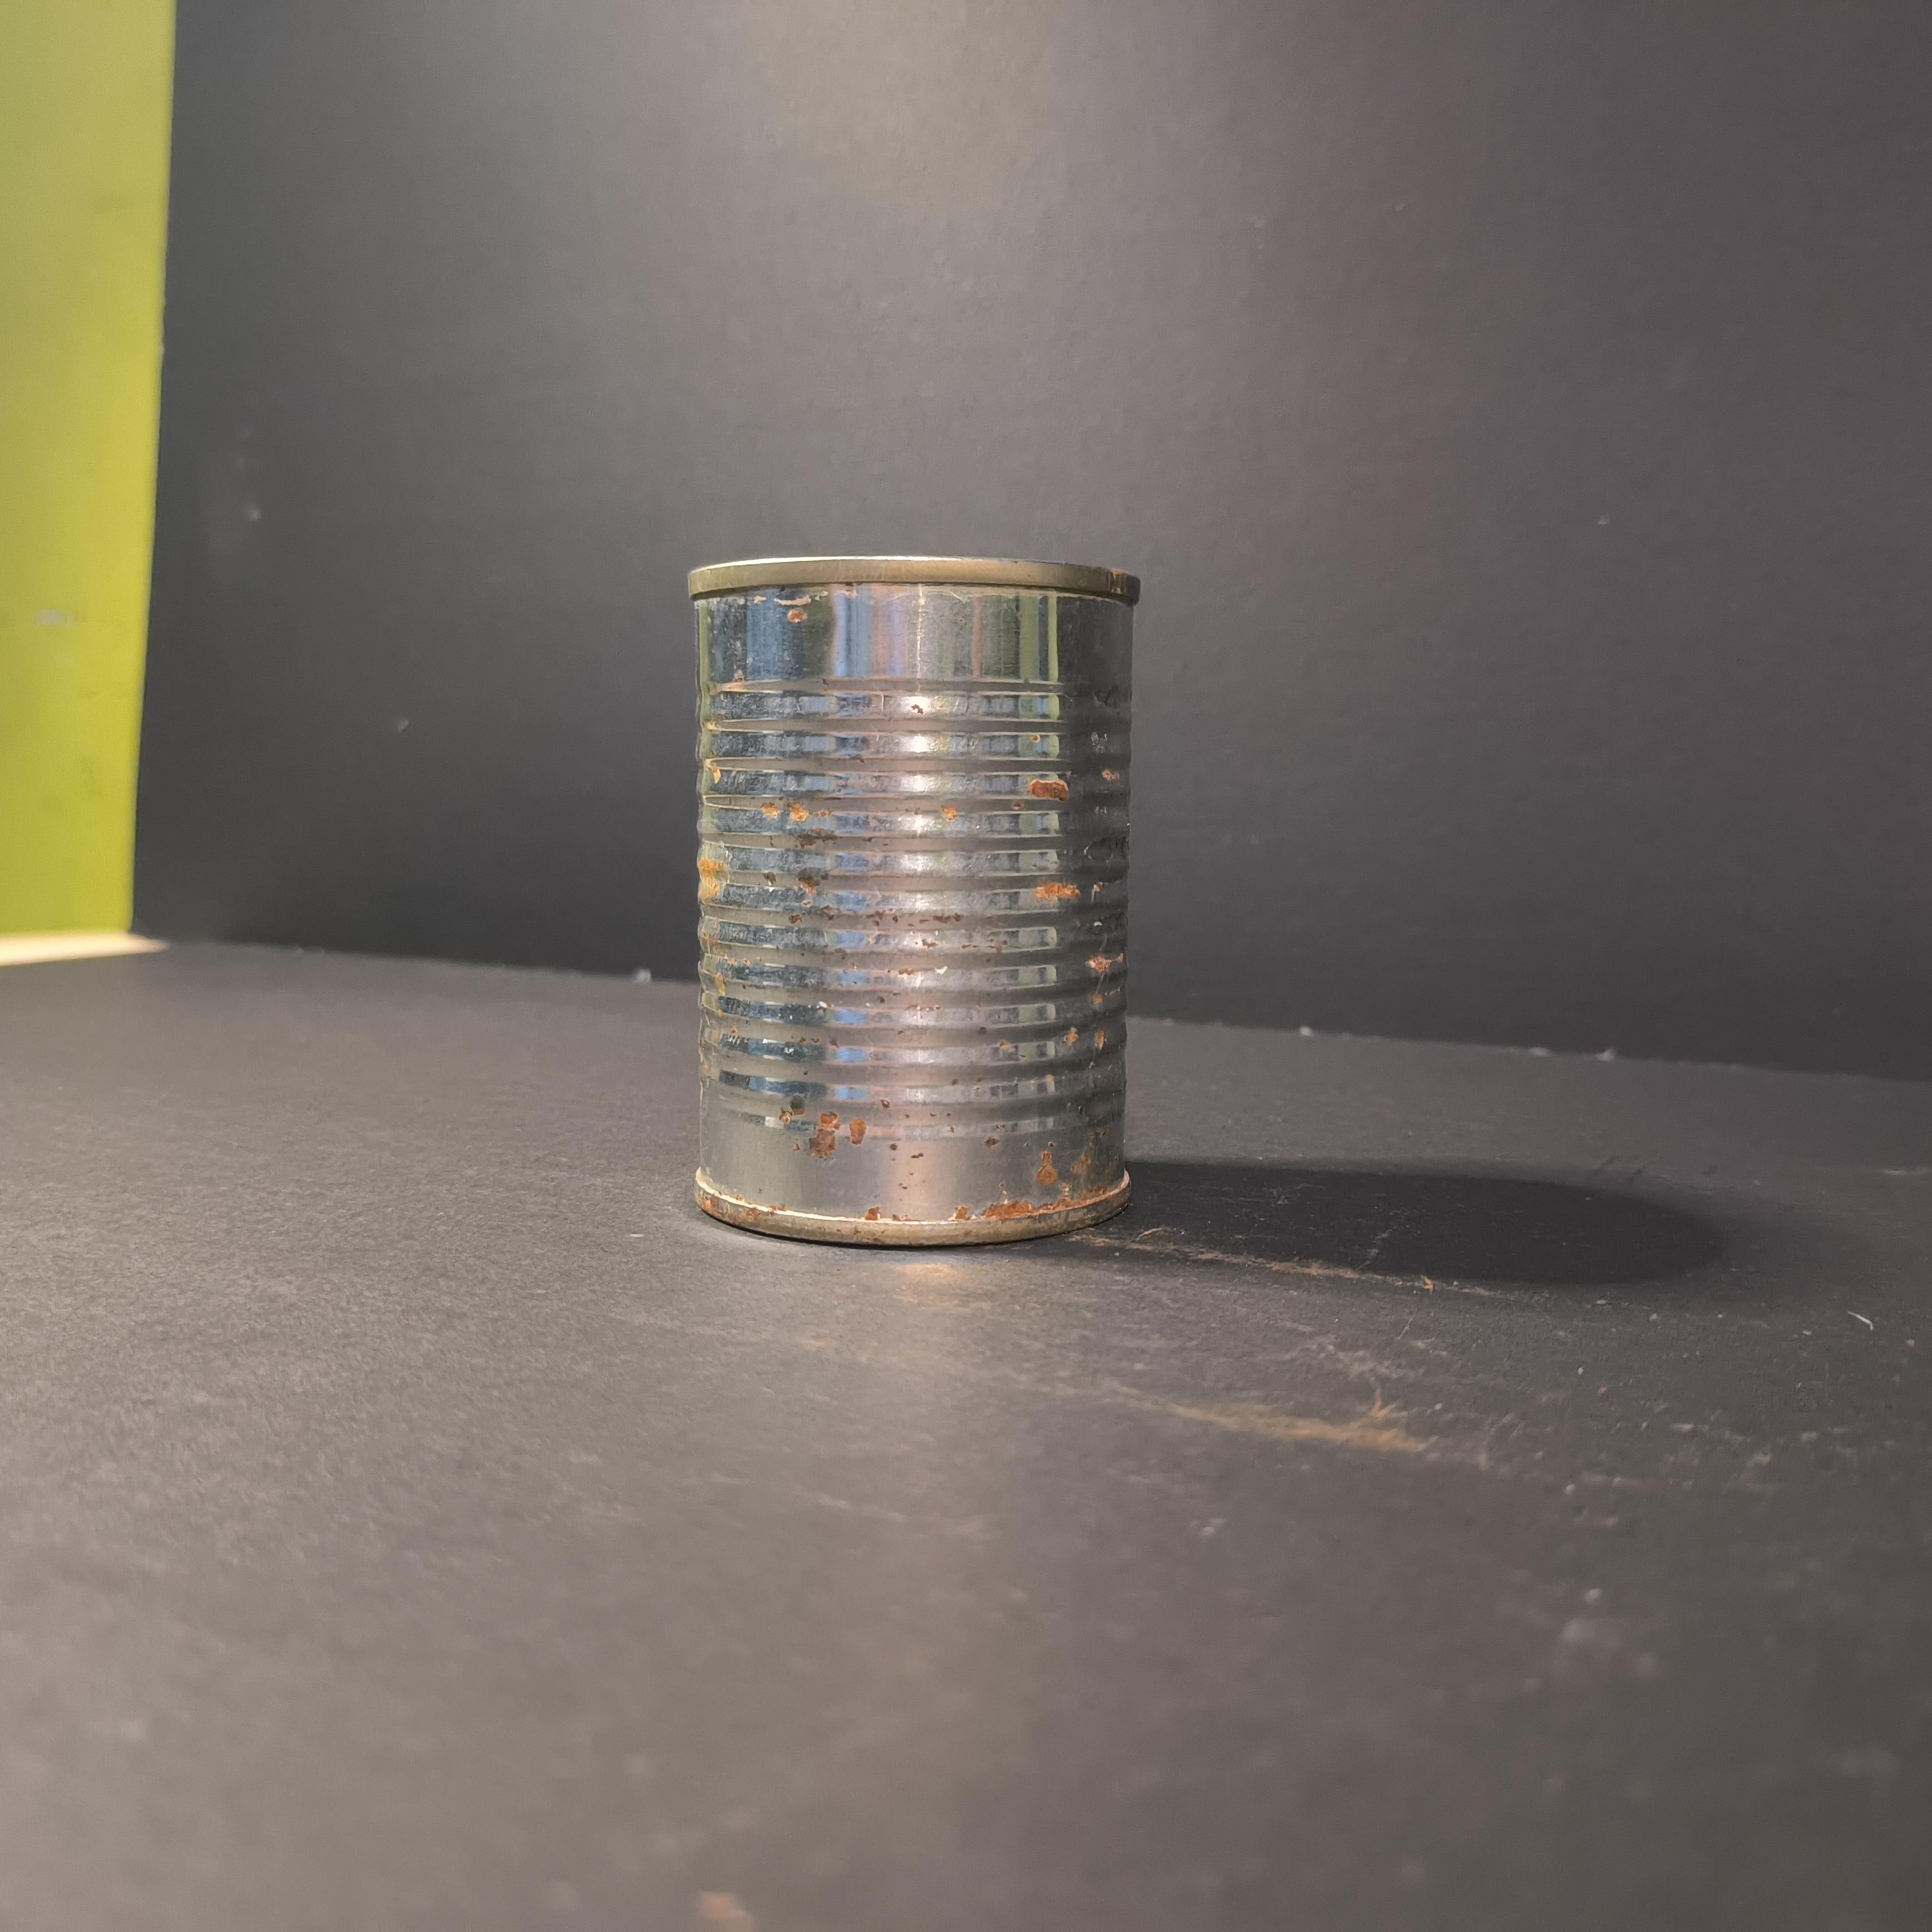Rusted: (674, 520, 1161, 1258)
